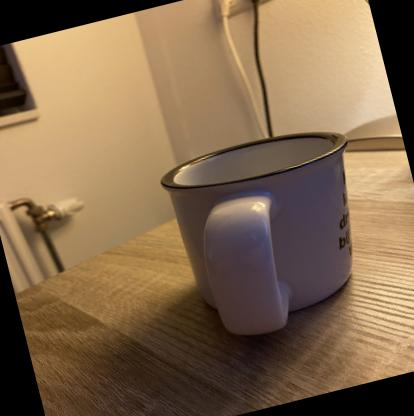Cup: (151, 112, 396, 355)
